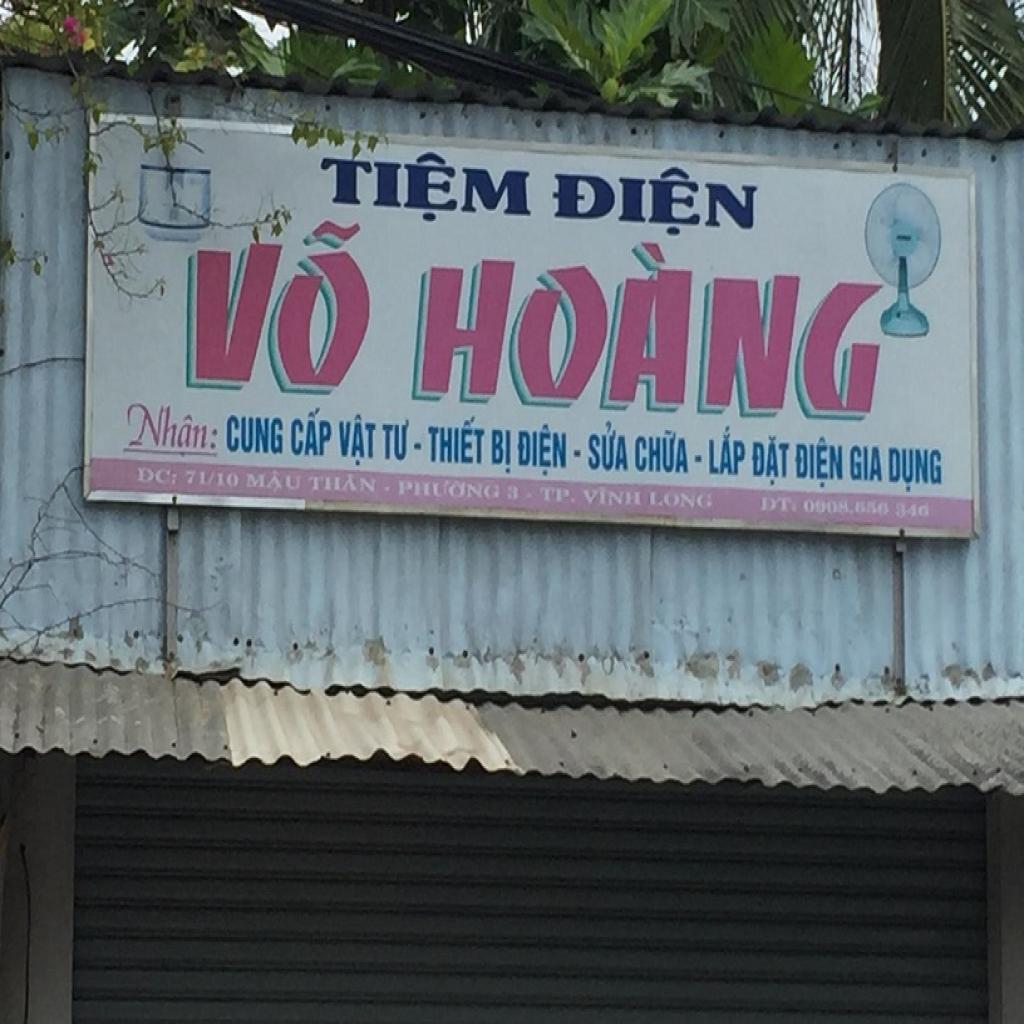text: (417, 228, 897, 422), (192, 207, 383, 395), (318, 140, 534, 232), (550, 156, 760, 242), (119, 402, 222, 462), (426, 415, 488, 468), (516, 420, 568, 480), (632, 425, 692, 477), (887, 445, 946, 497), (794, 435, 847, 492), (397, 478, 503, 504), (225, 414, 286, 458), (288, 405, 334, 462), (586, 418, 631, 474), (338, 410, 378, 470), (705, 425, 747, 480), (750, 434, 792, 488), (244, 468, 304, 498), (309, 472, 379, 497), (379, 415, 412, 465), (848, 442, 886, 485), (580, 486, 642, 510), (184, 467, 244, 490), (134, 462, 180, 490), (491, 425, 513, 477), (536, 485, 577, 509), (760, 494, 800, 516), (504, 484, 521, 506)
